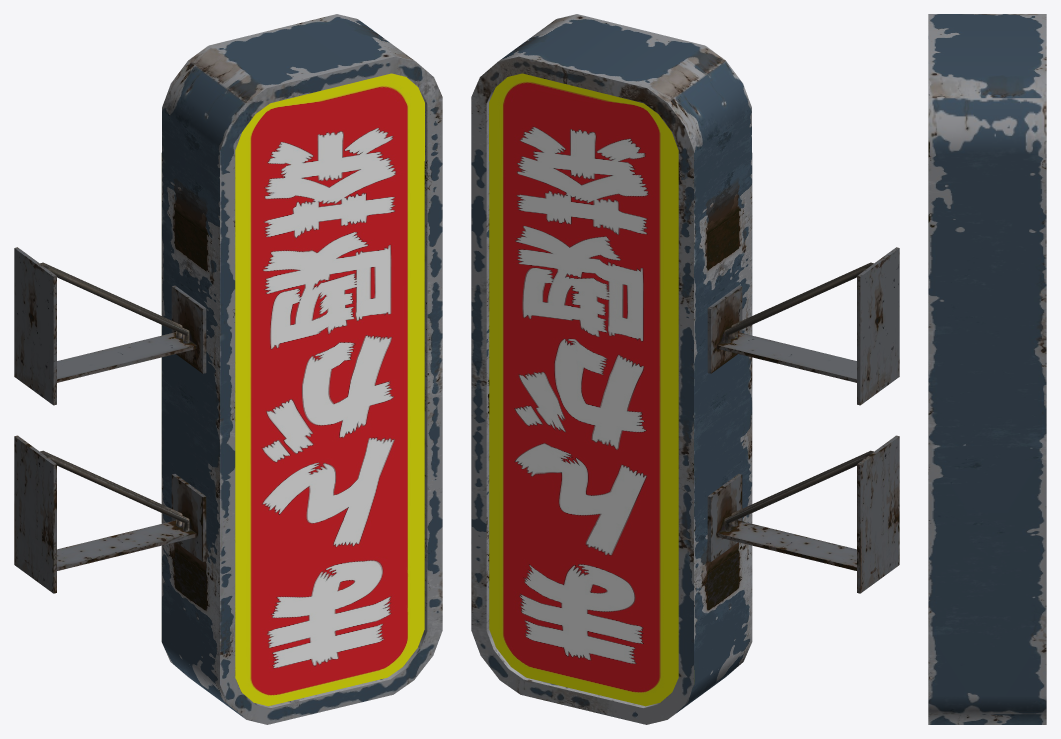
Rendered from Neon Sign.fbx.
3 views of the same model, side by side, from view 1: azimuth 30°, elevation 25°; view 2: azimuth 150°, elevation 25°; view 3: azimuth 270°, elevation 25° (orthographic).
Visible parts, largest first — view 1: defaultMaterial; view 2: defaultMaterial; view 3: defaultMaterial.
Boxes of the visible parts, x1,y1,x2,y2 form: defaultMaterial: [14, 14, 442, 724]; defaultMaterial: [471, 14, 899, 724]; defaultMaterial: [928, 14, 1046, 724].
Bounding box in the file's own units: 343 × 214 × 56.8.
1 material, 1 textured.
